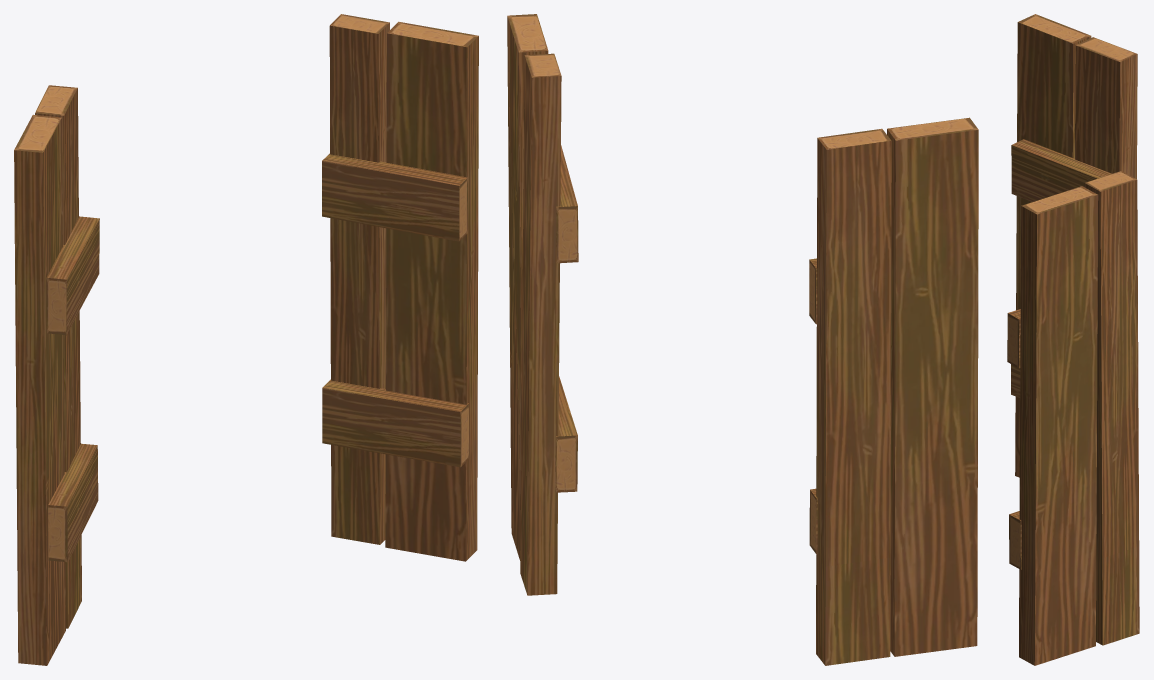
File: WindowShutters_Thin_Flat_Open.glb
The picture shows the model from 3 angles, left to right: view 1: azimuth 30°, elevation 25°; view 2: azimuth 150°, elevation 25°; view 3: azimuth 270°, elevation 25°; orthographic projection. The views are drawn at different scales.
Visible parts, largest first — view 1: WindowShutters_Thin_Flat_Open; view 2: WindowShutters_Thin_Flat_Open; view 3: WindowShutters_Thin_Flat_Open.
Boxes of the visible parts, bbox=[...] form: WindowShutters_Thin_Flat_Open: bbox=[14, 14, 478, 665]; WindowShutters_Thin_Flat_Open: bbox=[507, 14, 978, 665]; WindowShutters_Thin_Flat_Open: bbox=[1007, 14, 1139, 665].
Bounding box in the file's own units: 1.35 × 1.42 × 0.3771.
Materials: 1 (1 with a texture image).
